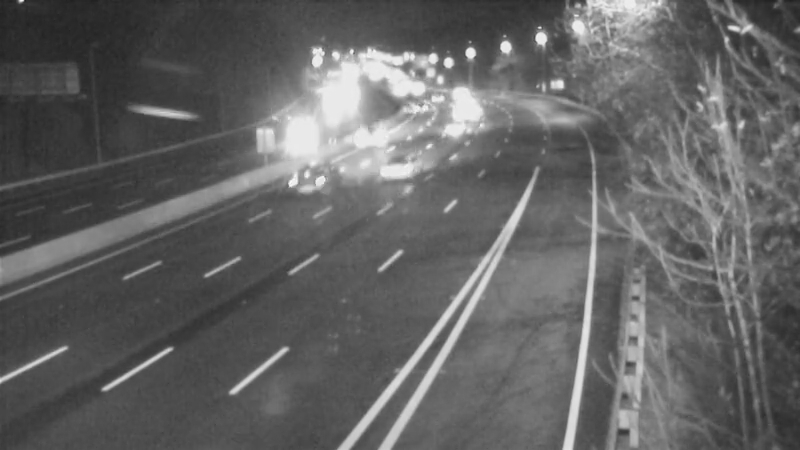vehicle: (369, 125, 449, 205), (265, 143, 345, 223), (395, 64, 445, 114), (374, 67, 424, 117), (435, 68, 485, 118), (407, 73, 457, 123), (431, 76, 481, 126), (383, 83, 433, 133), (434, 87, 484, 137), (431, 97, 481, 147), (352, 106, 402, 156), (281, 104, 331, 154)
